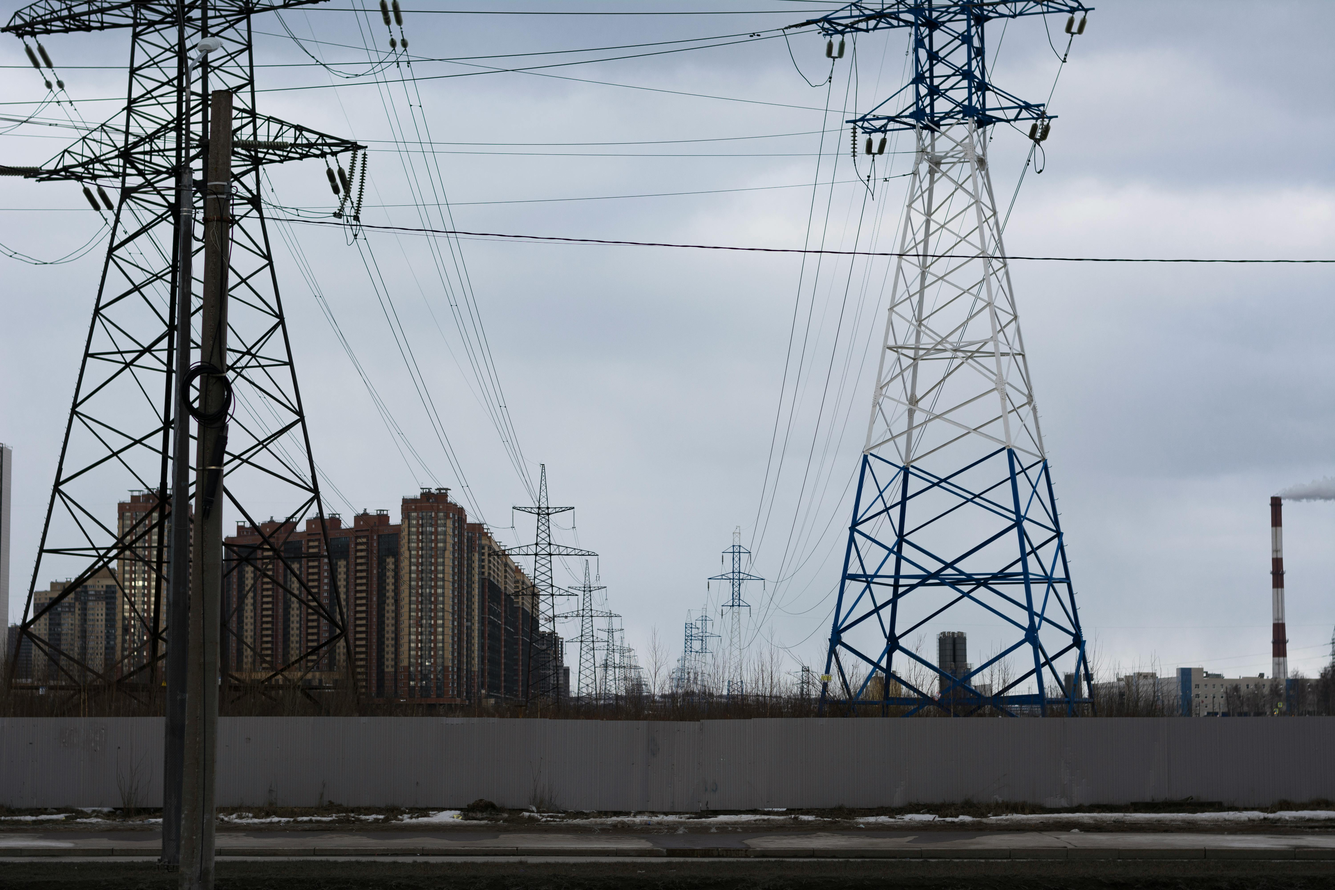insulator: (334, 145, 380, 224), (369, 2, 415, 51), (79, 182, 120, 215), (17, 46, 57, 68), (838, 121, 862, 157), (1063, 13, 1092, 41), (826, 36, 854, 64), (325, 161, 346, 198), (0, 165, 48, 181), (861, 134, 894, 157), (1027, 118, 1053, 145)
